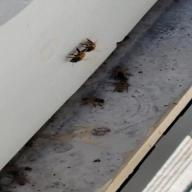Bee: (70, 38, 104, 53), (69, 48, 88, 68)
